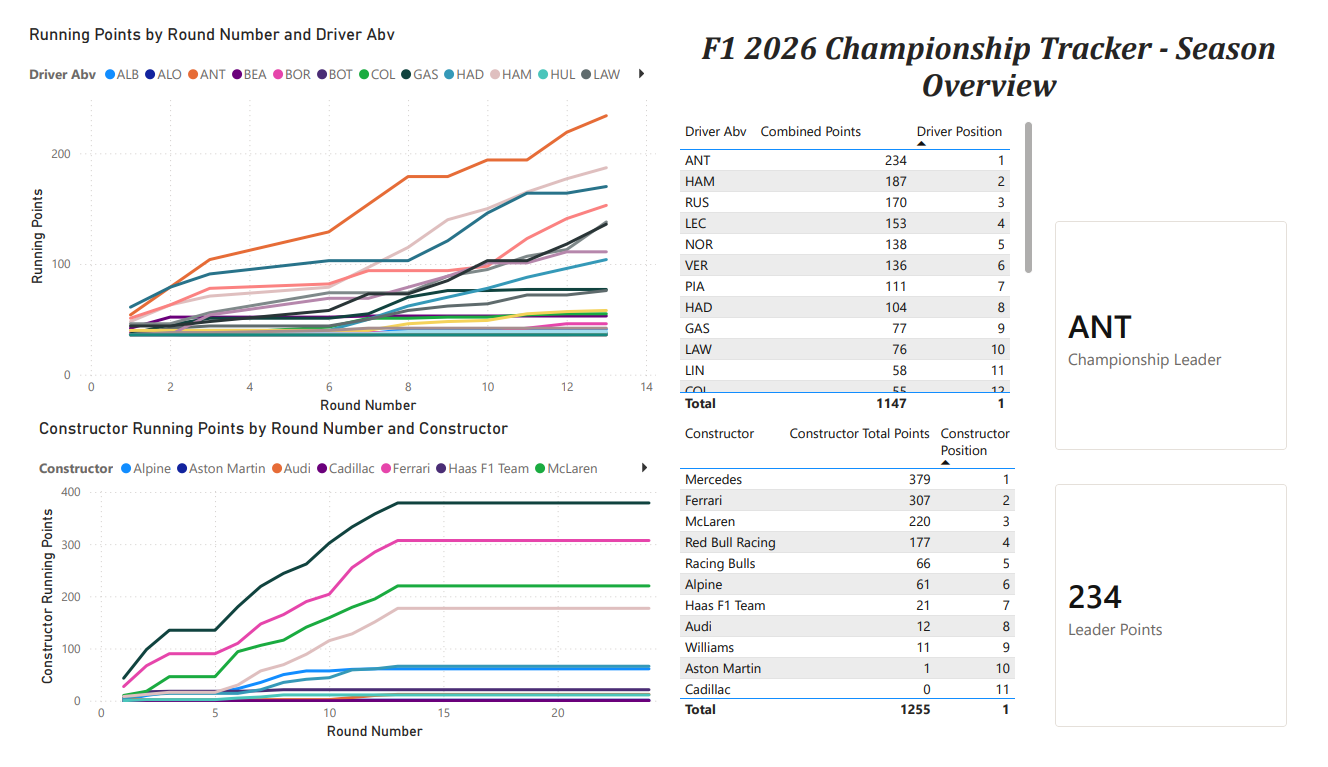

The dashboard page shown, as its layout file describes it:
{"tool":"powerbi","page":{"name":"Overview/Summary","canvas":[1280,720],"ordinal":3},"visuals":[{"type":"cardVisual","fields":{"Data":["Race Resuts.Championship Leader"]},"box":[1014.1,179.8,266.2,263.5],"z":0},{"type":"cardVisual","fields":{"Data":["Race Resuts.Leader Points"]},"box":[1014.1,443.2,266.2,277.2],"z":1000},{"type":"tableEx","fields":{"Values":["Race Resuts.Driver Abv","Race Resuts.Combined Points","Race Resuts.Driver Position"]},"box":[650.4,91.9,363.6,301.9],"z":2000},{"type":"tableEx","fields":{"Values":["Constructors Standings.Constructor","Constructors Standings.Constructor Total Points","Constructors Standings.Constructor Position"]},"box":[650.4,393.8,363.6,326.6],"z":3000},{"type":"lineChart","fields":{"Category":["Race Resuts.Round Number"],"Y":["Race Resuts.Running Points"],"Series":["Race Resuts.Driver Abv"]},"box":[0,0,637.1,394.3],"z":4000},{"type":"lineChart","fields":{"Series":["Constructors Standings.Constructor"],"Y":["Constructors Standings.Constructor Running Points"],"Category":["Constructors Standings.Round Number"]},"box":[10,394.3,630,325.7],"z":5000},{"type":"textbox","box":[650.4,0,629.8,91.9],"z":5001}]}

Visuals, with their boxes in screenshot pixels (x1, y1, x2, y2), scaled from the page's 1280x720 canvas onto the 1328x767 screenshot:
cardVisual - Race Resuts.Championship Leader: [1052, 192, 1327, 472]
cardVisual - Race Resuts.Leader Points: [1052, 472, 1327, 766]
tableEx - Race Resuts.Driver Abv x Race Resuts.Combined Points: [675, 98, 1052, 420]
tableEx - Constructors Standings.Constructor x Constructors Standings.Constructor Total Points: [675, 420, 1052, 766]
lineChart - Race Resuts.Round Number x Race Resuts.Running Points: [0, 0, 661, 420]
lineChart - Constructors Standings.Constructor x Constructors Standings.Constructor Running Points: [10, 420, 664, 766]
textbox: [675, 0, 1327, 98]
